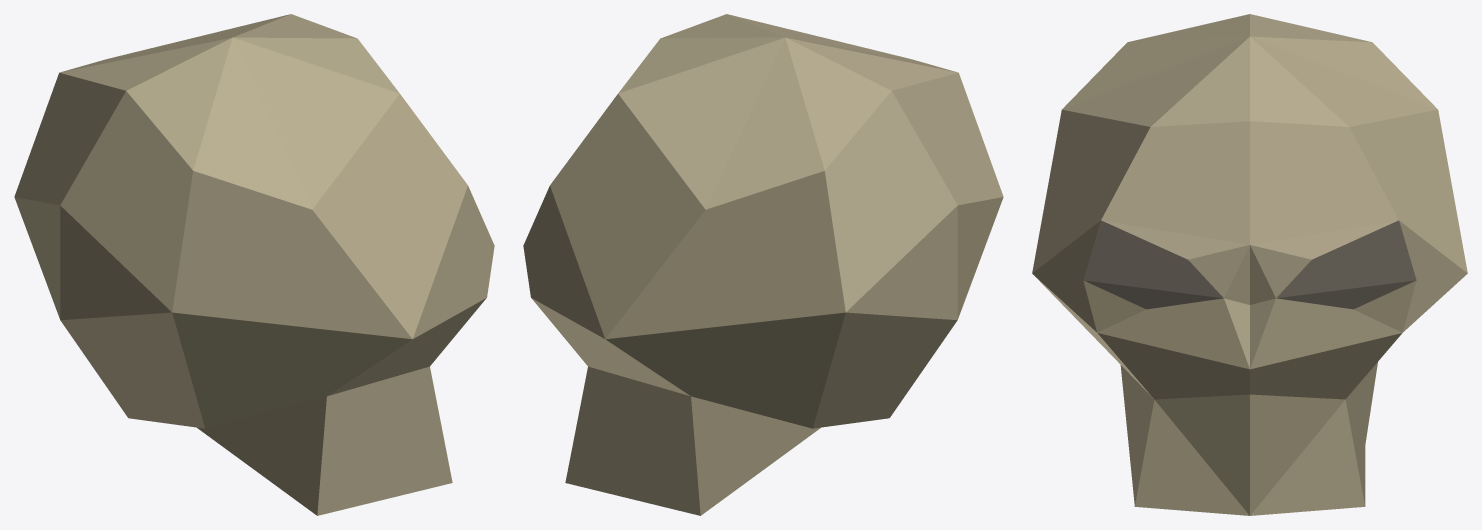
The model's file is Skull02.fbx.
3 views of the same model, side by side, from view 1: azimuth 30°, elevation 25°; view 2: azimuth 150°, elevation 25°; view 3: azimuth 270°, elevation 25° (orthographic). The views are drawn at different scales.
Parts seen in each view (by area): view 1: Skull02; view 2: Skull02; view 3: Skull02.
Part boxes in pixels (box(x1,y1,x2,y2)): Skull02: box(14, 14, 494, 515); Skull02: box(523, 14, 1003, 515); Skull02: box(1032, 14, 1467, 515).
Bounding box in the file's own units: 36.29 × 36.78 × 33.06.
